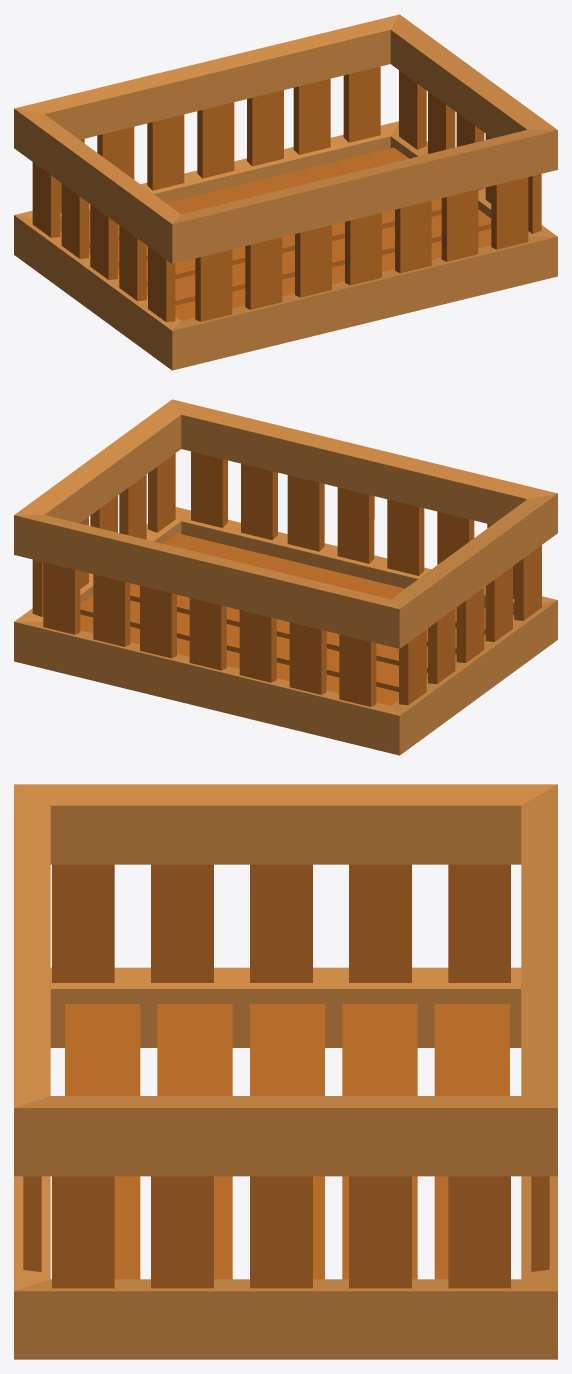
File: WoodenCase_L.fbx
3 views of the same model, one above another, from view 1: azimuth 30°, elevation 25°; view 2: azimuth 150°, elevation 25°; view 3: azimuth 270°, elevation 25° (orthographic). The views are drawn at different scales.
Parts seen in each view (by area): view 1: WoodenCase_L; view 2: WoodenCase_L; view 3: WoodenCase_L.
Boxes of the visible parts, <box> form: WoodenCase_L: <box>14,14,557,370</box>; WoodenCase_L: <box>14,399,557,755</box>; WoodenCase_L: <box>14,784,557,1359</box>.
Bounding box in the file's own units: 252 × 91.2 × 179.
